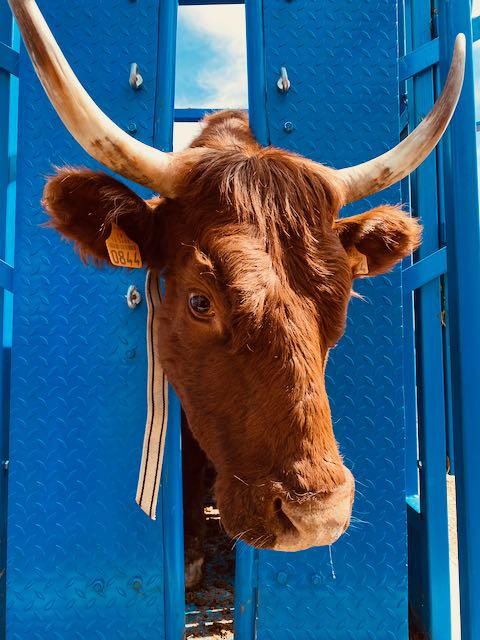muzzles: (235, 461, 365, 554)
